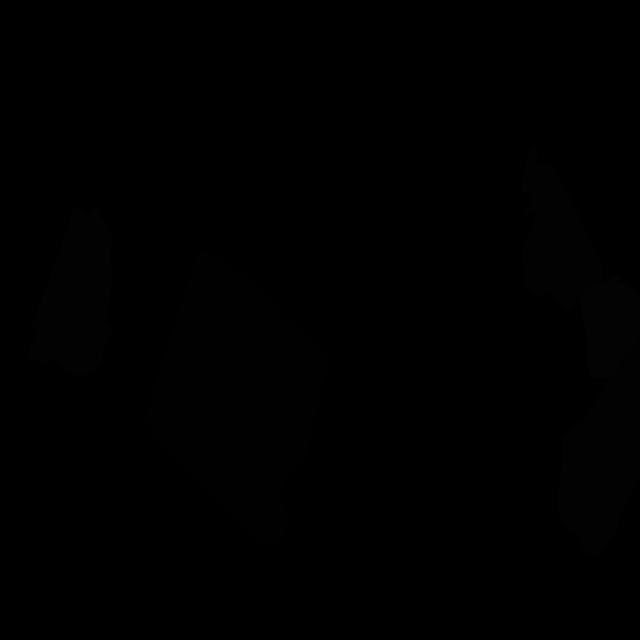cardboard: (556, 341, 640, 555), (26, 205, 115, 377), (520, 145, 603, 316)
metal: (579, 274, 640, 379)
rigid_plastic: (143, 250, 330, 551)
